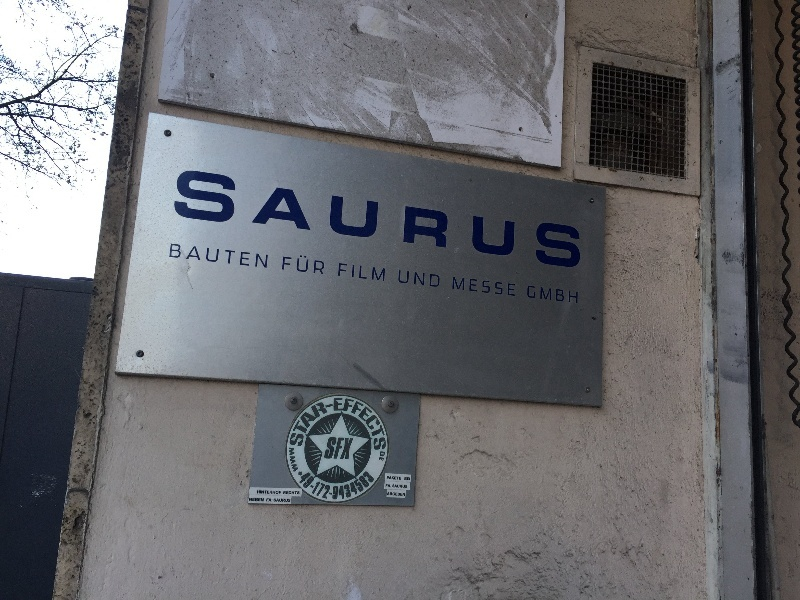text: (193, 167, 208, 272), (209, 167, 224, 272), (225, 167, 240, 272), (241, 167, 256, 272), (257, 167, 272, 272), (273, 167, 288, 272), (289, 167, 304, 272), (305, 167, 320, 272), (321, 167, 336, 272), (337, 167, 352, 272), (353, 167, 368, 272), (369, 167, 384, 272), (385, 167, 400, 272), (401, 167, 416, 272), (417, 167, 432, 272), (433, 167, 448, 272), (449, 167, 464, 272), (465, 167, 480, 272), (481, 167, 496, 272), (497, 167, 512, 272), (513, 167, 528, 272), (529, 167, 544, 272), (545, 167, 560, 272), (561, 167, 576, 272), (179, 167, 192, 272), (305, 395, 320, 451), (321, 395, 336, 451), (337, 395, 352, 451), (353, 395, 368, 451), (369, 395, 384, 451), (291, 395, 304, 451), (577, 167, 583, 272), (305, 469, 320, 502), (321, 469, 336, 502), (337, 469, 352, 502), (353, 469, 368, 502), (177, 243, 192, 272), (193, 243, 208, 272), (209, 243, 224, 272), (225, 243, 240, 272), (241, 243, 256, 272), (257, 243, 270, 272), (337, 437, 352, 460), (289, 253, 304, 275), (305, 253, 320, 275), (353, 262, 368, 283), (369, 262, 384, 283), (465, 276, 480, 297), (481, 276, 496, 297), (497, 276, 512, 297), (401, 270, 416, 289), (417, 270, 432, 289), (529, 285, 544, 304), (545, 285, 560, 304), (561, 285, 576, 304), (339, 262, 352, 283), (289, 447, 298, 474), (453, 276, 464, 297), (298, 469, 304, 502), (369, 469, 375, 502), (328, 437, 336, 460), (170, 243, 176, 272), (433, 270, 441, 289), (283, 253, 288, 275), (321, 253, 325, 275), (258, 490, 272, 495), (387, 476, 400, 481), (513, 276, 516, 297), (388, 492, 400, 497), (385, 395, 386, 451), (386, 484, 400, 488), (273, 490, 282, 495), (380, 451, 384, 462), (289, 491, 300, 495), (405, 477, 416, 481), (274, 499, 288, 502), (393, 484, 400, 489), (401, 484, 408, 489), (257, 498, 264, 502), (401, 492, 406, 497), (250, 498, 256, 502), (353, 437, 354, 460), (385, 262, 386, 283), (399, 270, 400, 289), (577, 285, 578, 304), (284, 491, 288, 495), (267, 499, 272, 502), (385, 451, 386, 462), (289, 499, 291, 502), (401, 476, 402, 481)
